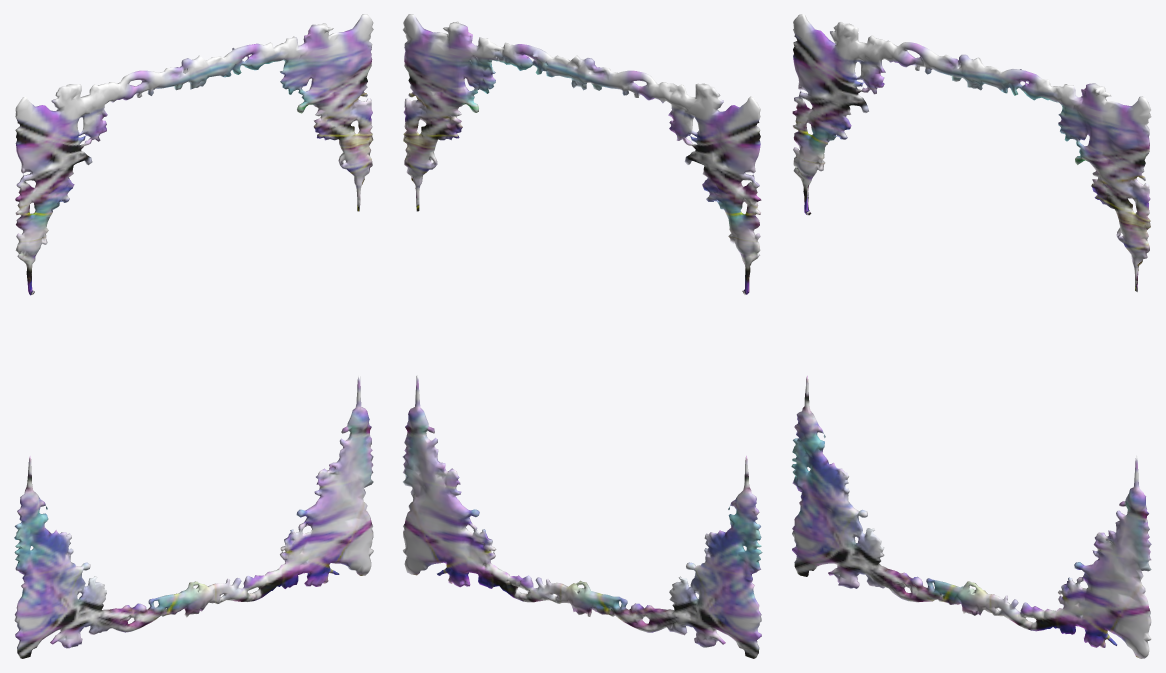
File: overlay_nofur.glb
The picture shows the model from 3 angles, left to right: view 1: azimuth 30°, elevation 25°; view 2: azimuth 150°, elevation 25°; view 3: azimuth 330°, elevation 25°; orthographic projection.
Parts seen in each view (by area): view 1: Mesh_0.003; view 2: Mesh_0.003; view 3: Mesh_0.003.
Boxes of the visible parts, left/top/right/bottom form: Mesh_0.003: left=14, top=14, right=373, bottom=658; Mesh_0.003: left=402, top=14, right=762, bottom=658; Mesh_0.003: left=791, top=14, right=1151, bottom=658.
Size of the model in its own units: 1.33 by 1.99 by 0.0668.
1 material, 1 textured.
